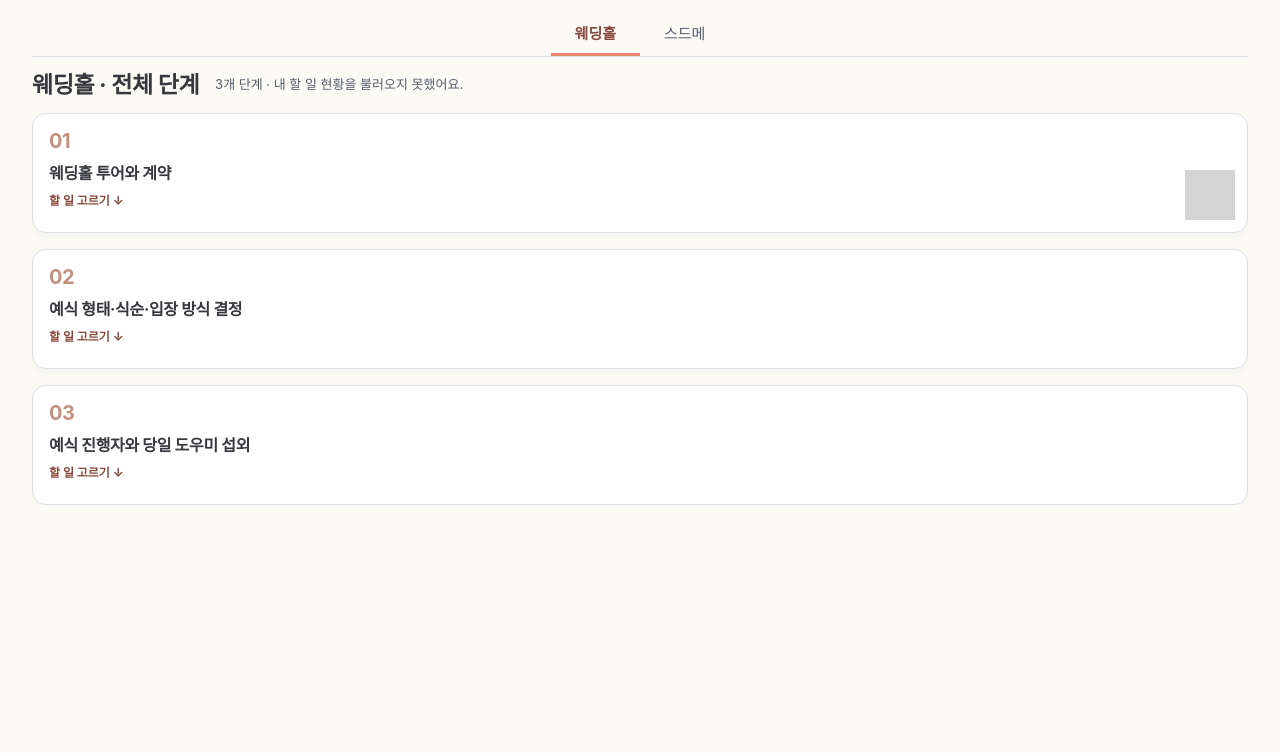
it: AllPreparationStepsFeature 서버 상태 › 로그인 사용자는 단일 준비 목록과 서버 체크리스트를 요청한다
Expected: the heading "웨딩홀 · 전체 단계" is shown, top-left (32, 69), bottom-right (199, 101)
Click the button "01 웨딩홀 투어와 계약 할 일 고르기 ↓": (110, 173) top-left (32, 113), bottom-right (1248, 233)
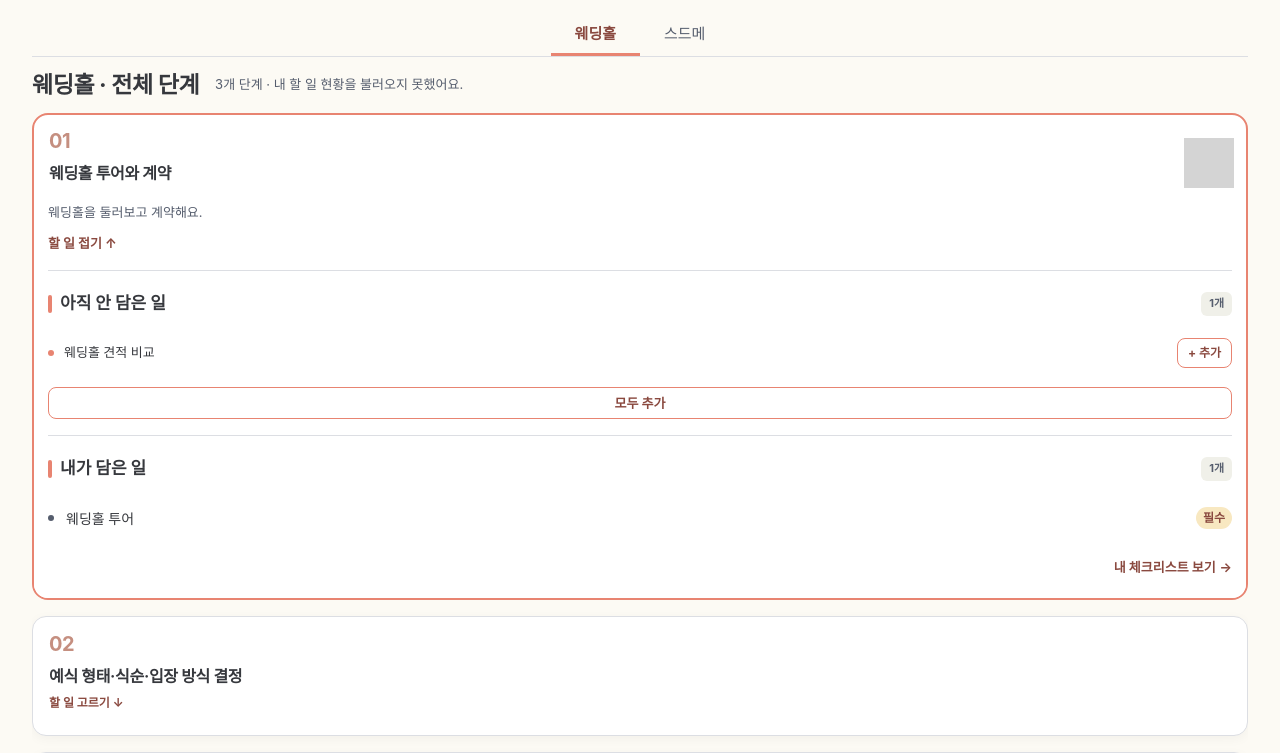
Expected: the button with aria-label "웨딩홀 견적 비교 추가" is enabled, top-left (1177, 338), bottom-right (1232, 368)
